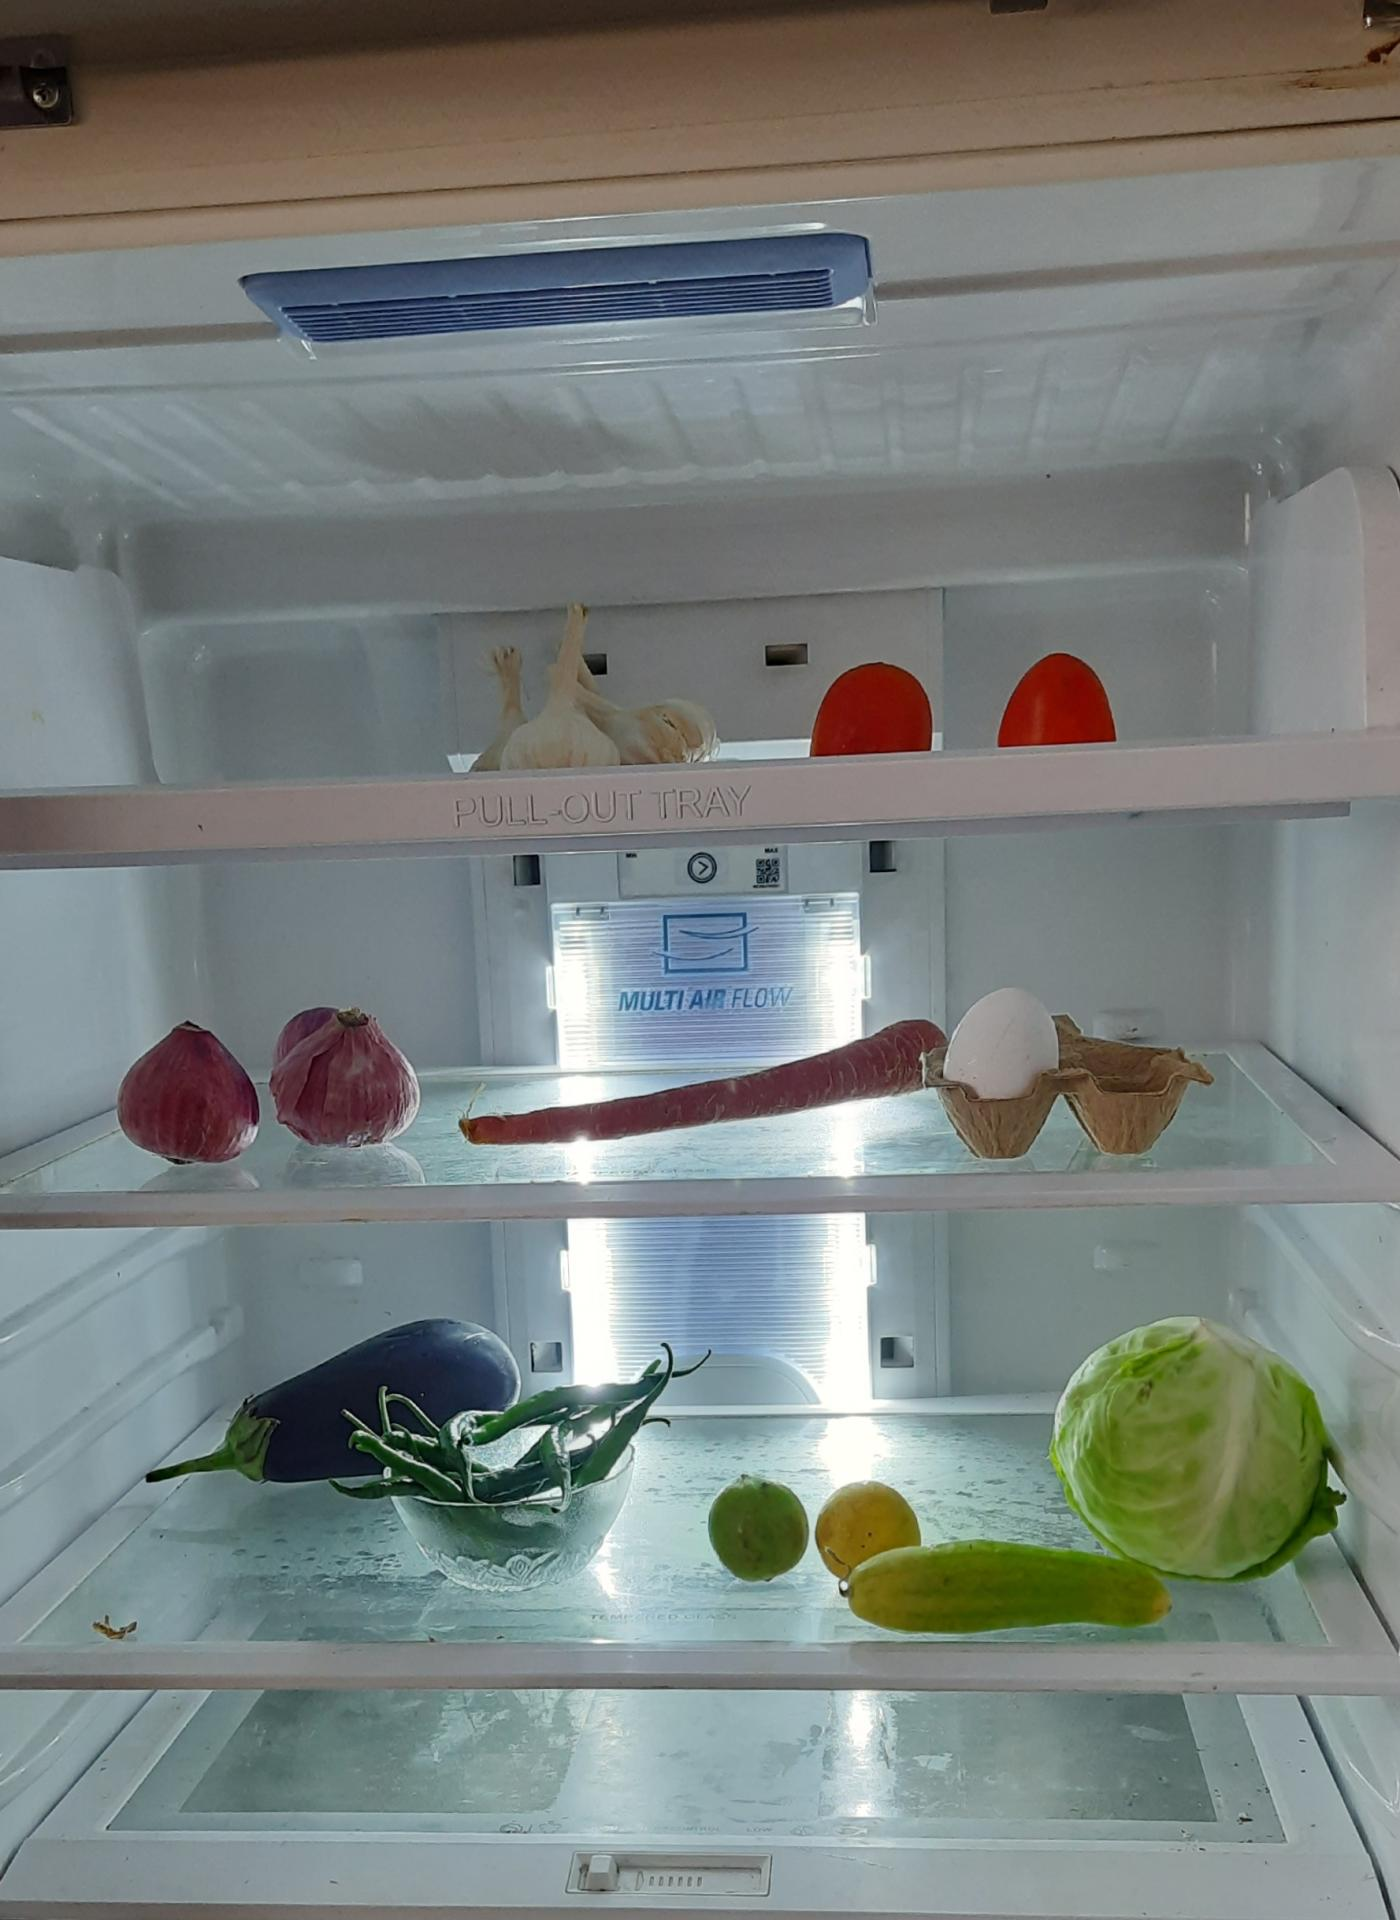brinjal: (167, 1316, 549, 1492)
cabbage: (1042, 1318, 1342, 1582)
carrots: (455, 1035, 950, 1163)
chillies: (370, 1370, 674, 1564)
cucumber: (824, 1528, 1184, 1631)
egg: (954, 988, 1068, 1191)
garlic: (462, 593, 711, 772)
lemon: (704, 1452, 814, 1586), (830, 1491, 909, 1592)
onion: (267, 999, 419, 1148), (116, 1018, 262, 1161)
tomato: (808, 660, 938, 760), (993, 650, 1115, 751)
